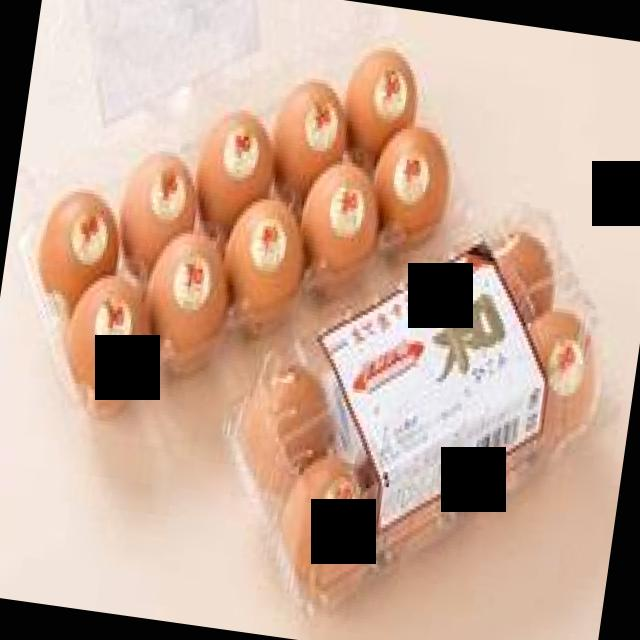egg: (28, 46, 449, 419), (233, 206, 606, 615)
